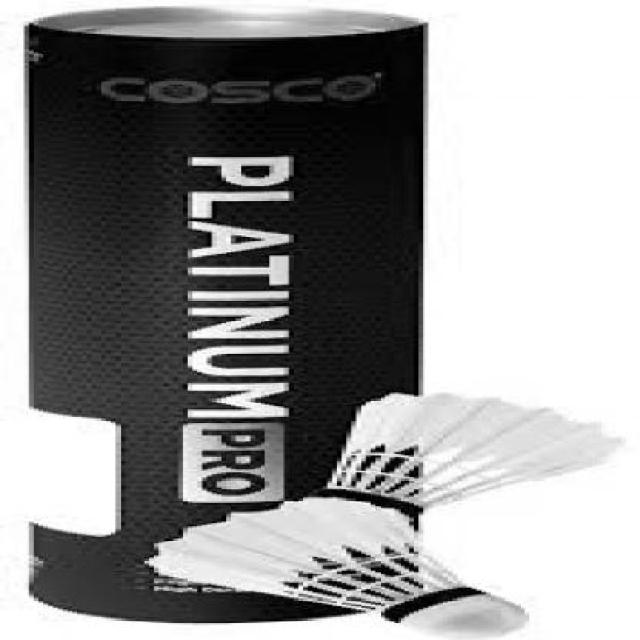Shuttlecock: (152, 500, 540, 631)
